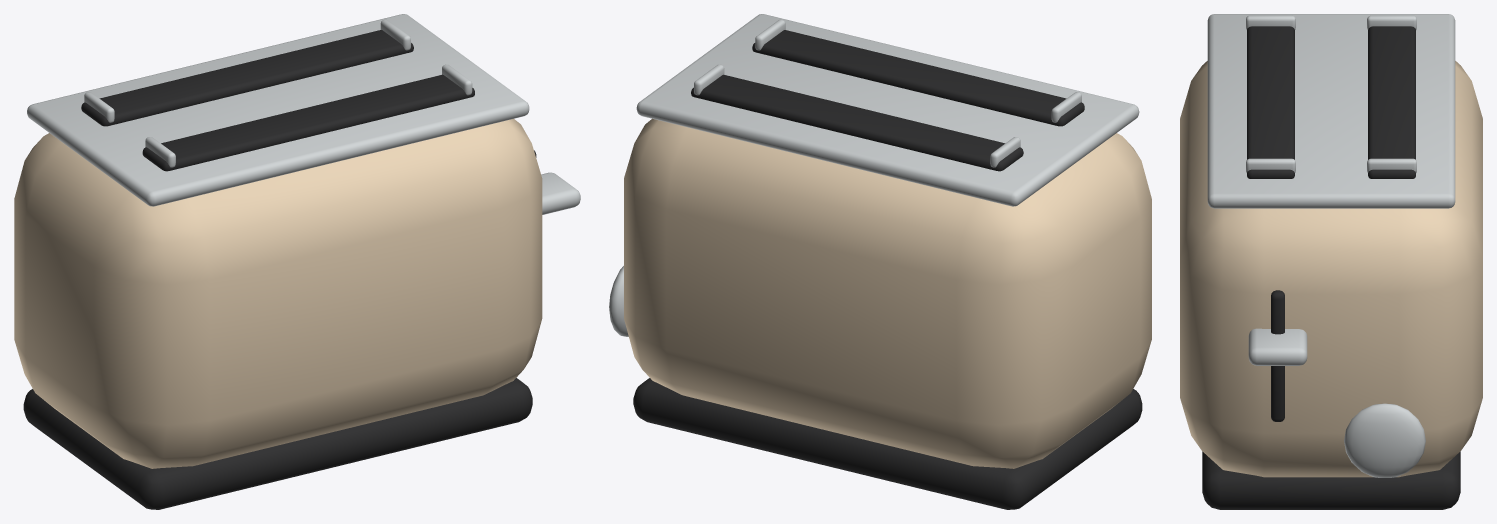
Rendered from toaster.glb.
3 views of the same model, side by side, from view 1: azimuth 30°, elevation 25°; view 2: azimuth 150°, elevation 25°; view 3: azimuth 270°, elevation 25° (orthographic).
Parts seen in each view (by area): view 1: toaster__body, toaster__technical, toaster__accent; view 2: toaster__body, toaster__technical, toaster__accent; view 3: toaster__body, toaster__accent, toaster__technical.
Boxes of the visible parts, x1=… form: toaster__body: x1=14, y1=119, x2=542, y2=468; toaster__technical: x1=23, y1=30, x2=536, y2=509; toaster__accent: x1=27, y1=14, x2=580, y2=214; toaster__body: x1=624, y1=118, x2=1151, y2=468; toaster__technical: x1=633, y1=30, x2=1142, y2=509; toaster__accent: x1=609, y1=14, x2=1139, y2=336; toaster__body: x1=1180, y1=61, x2=1482, y2=477; toaster__accent: x1=1207, y1=14, x2=1455, y2=477; toaster__technical: x1=1202, y1=26, x2=1460, y2=509.
Bounding box in the file's own units: 0.309 × 0.2065 × 0.17.
